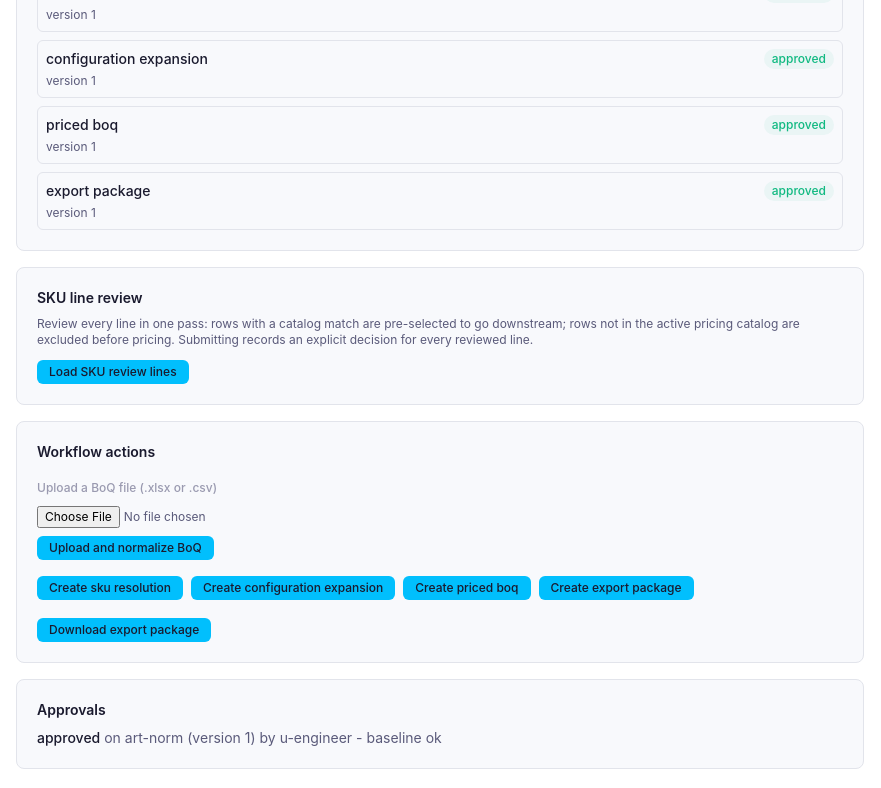
ProjectQuickBomPage - create actions › shows a generic workflow error and no stack when a create action throws
(page scrolled)
Step 1. Click the button with test id "workflow-create-sku_resolution" → coordinates (110, 588), box [37,576,183,600]
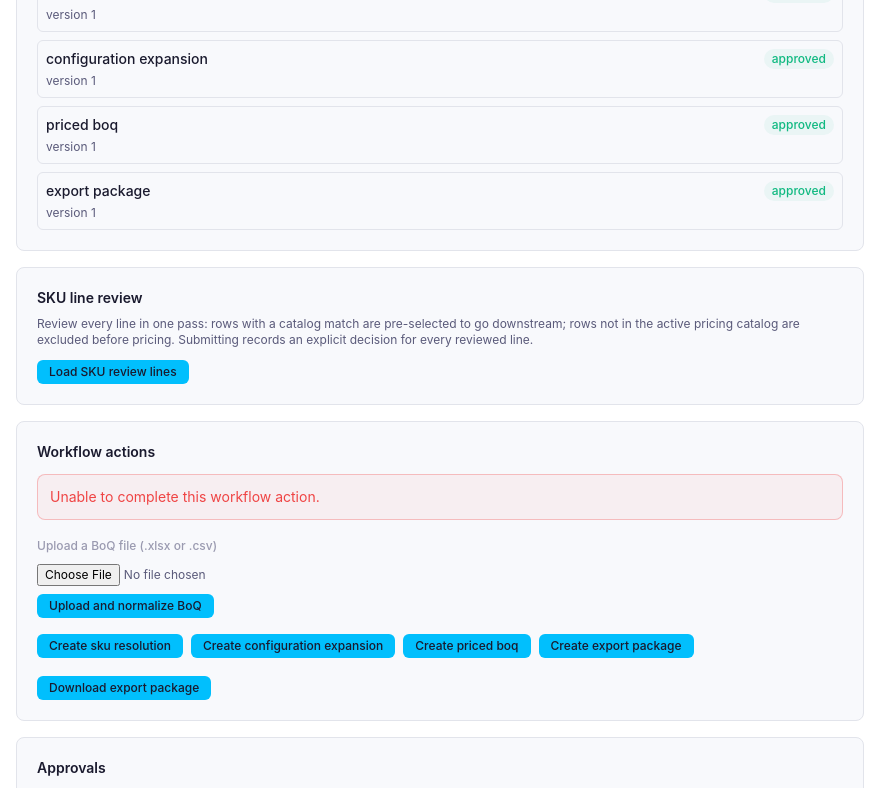
Expected: the text with test id "workflow-error" reads "Unable to complete this workflow action.", [50,488,320,505]
